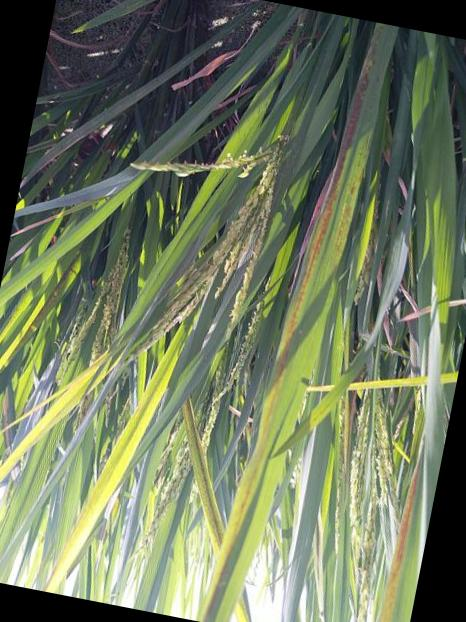Leaf Streak: (267, 36, 376, 393), (375, 477, 421, 622), (184, 402, 227, 554)
